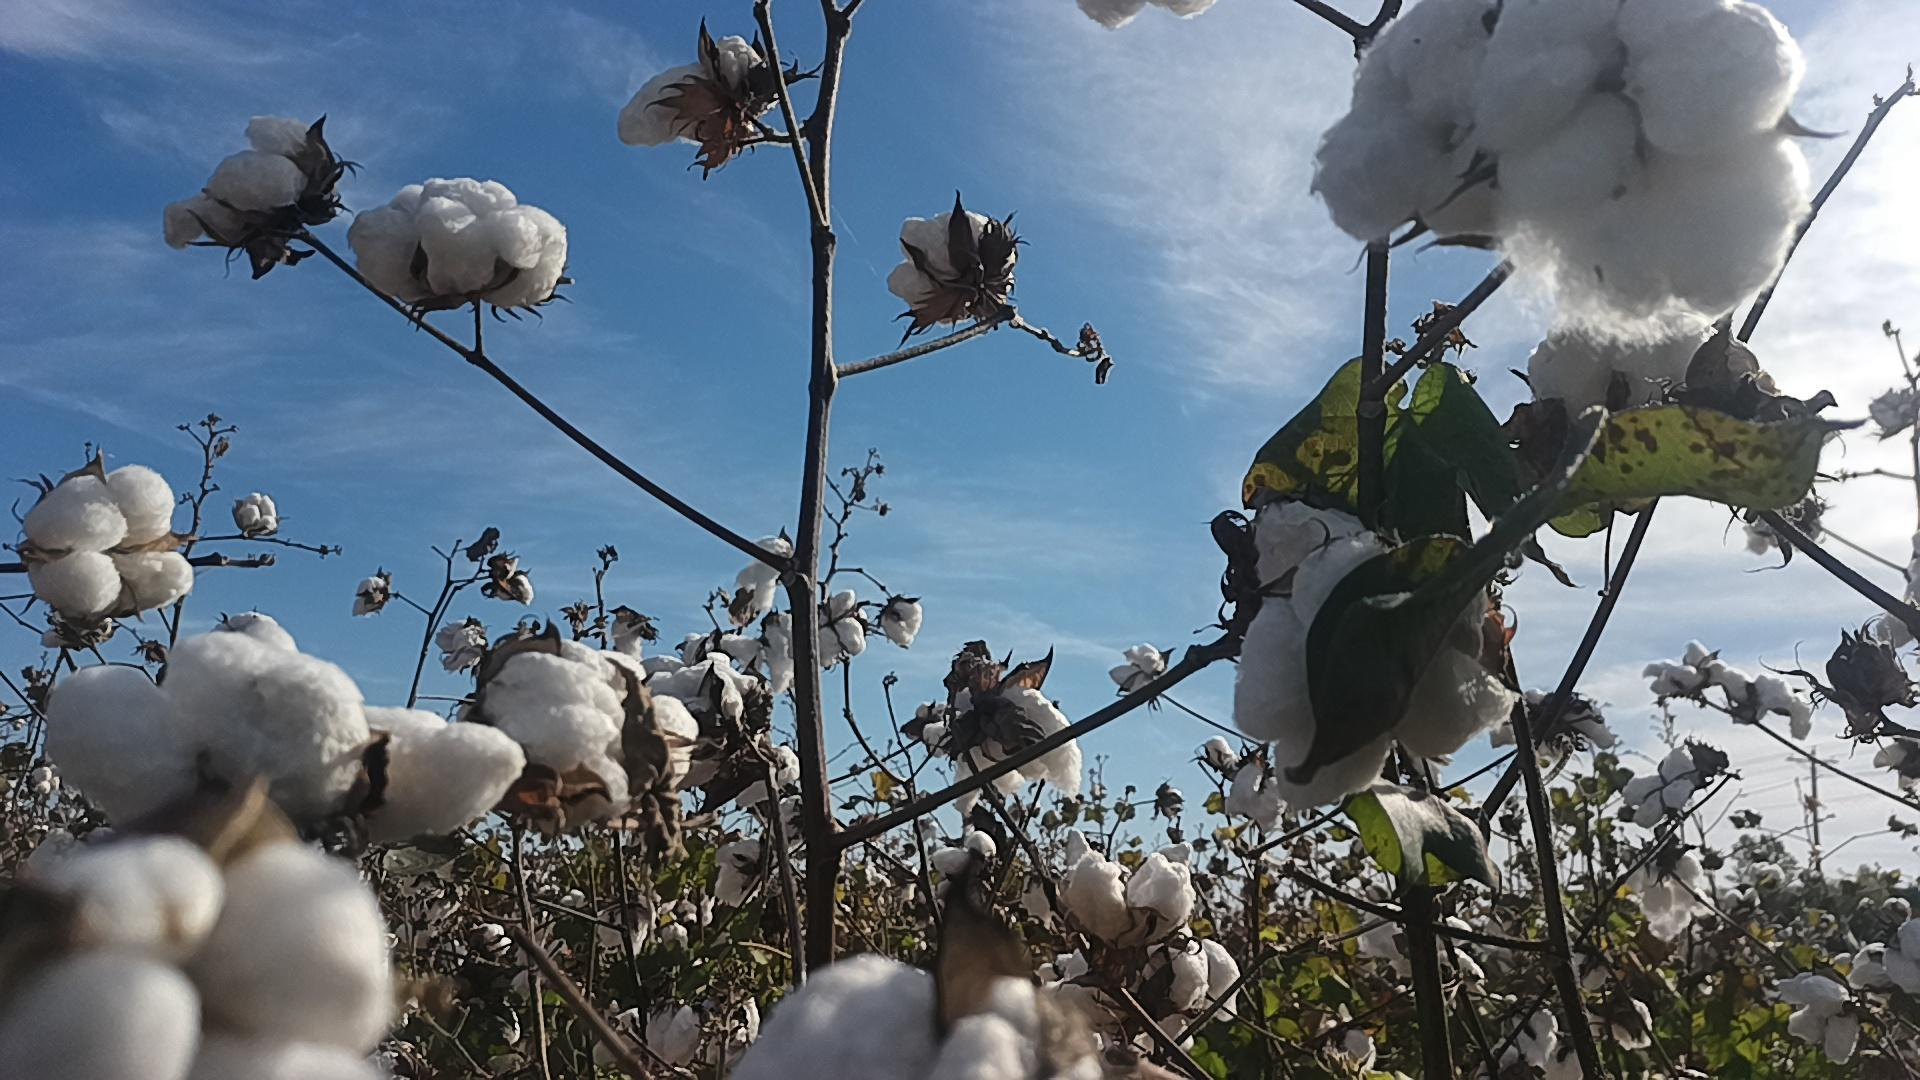cotton_ready: (40, 617, 525, 831), (1502, 0, 1803, 335), (0, 840, 404, 1080), (1234, 505, 1509, 811), (1309, 0, 1503, 245), (348, 178, 571, 315), (1076, 856, 1240, 1027), (725, 956, 945, 1080), (488, 641, 628, 820), (26, 468, 195, 615), (164, 116, 331, 251), (1532, 331, 1755, 425), (952, 683, 1085, 811), (622, 30, 766, 145), (942, 976, 1098, 1080), (890, 214, 1013, 311), (645, 658, 738, 785), (1785, 976, 1866, 1063), (645, 694, 703, 793), (641, 1001, 702, 1079), (1634, 748, 1698, 819), (1073, 0, 1208, 25)
